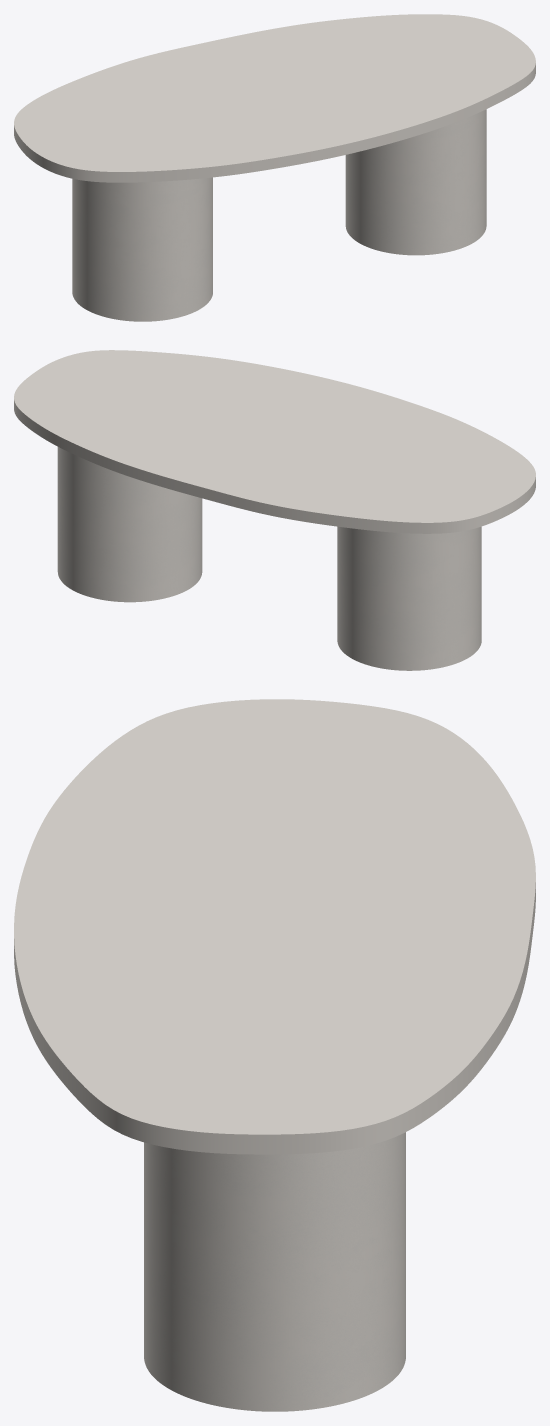
The model's file is pearlwhite_danish_standard_stream.glb.
3 renders of one model, top to bottom at view 1: azimuth 30°, elevation 25°; view 2: azimuth 150°, elevation 25°; view 3: azimuth 270°, elevation 25°, orthographic. The views are drawn at different scales.
Visible parts, largest first — view 1: standard_danish, stream; view 2: standard_danish, stream; view 3: standard_danish, stream.
Boxes of the visible parts, bbox=[...] form: standard_danish: bbox=[14, 14, 535, 182]; stream: bbox=[72, 109, 486, 321]; standard_danish: bbox=[14, 350, 535, 533]; stream: bbox=[57, 447, 481, 670]; standard_danish: bbox=[14, 699, 535, 1154]; stream: bbox=[144, 1132, 405, 1411].
Size of the model in its own units: 7.5 by 2.49 by 3.8.
Materials: 1 (1 with a texture image).
